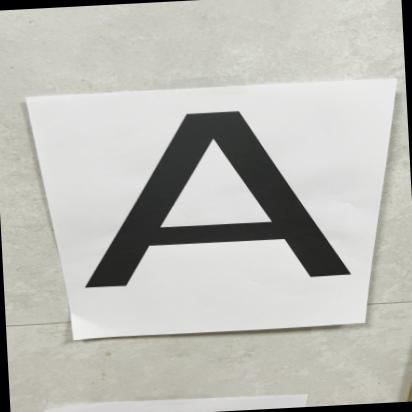seat: (78, 92, 358, 298)
